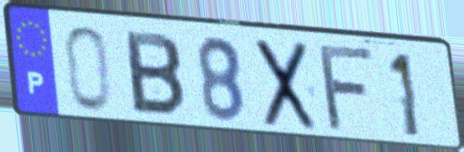0: (60, 22, 118, 116)
1: (386, 50, 424, 139)
8: (194, 33, 247, 125)
B: (122, 27, 188, 120)
F: (318, 43, 380, 135)
X: (253, 37, 319, 134)
